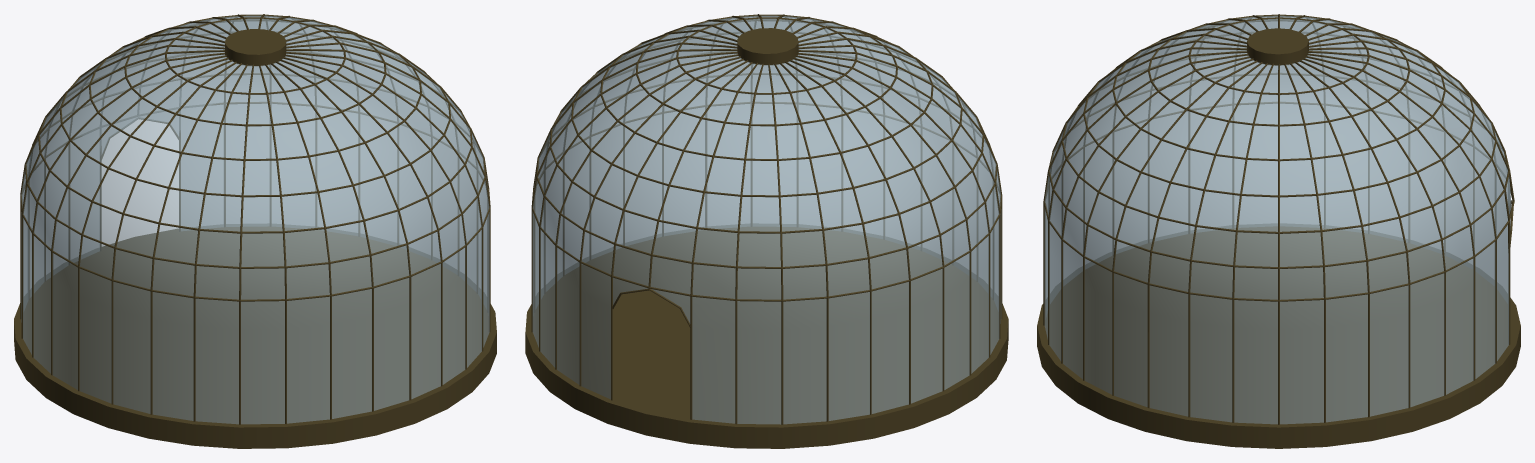
Rendered from Greenhouse3.fbx.
3 renders of one model, left to right at view 1: azimuth 30°, elevation 25°; view 2: azimuth 150°, elevation 25°; view 3: azimuth 270°, elevation 25°, orthographic.
Visible parts, largest first — view 1: korpus3; view 2: korpus3; view 3: korpus3.
Boxes of the visible parts, bbox=[...] form: korpus3: bbox=[14, 14, 496, 448]; korpus3: bbox=[525, 14, 1008, 448]; korpus3: bbox=[1037, 14, 1520, 448].
Bounding box in the file's own units: 1664 × 1159 × 1664.
